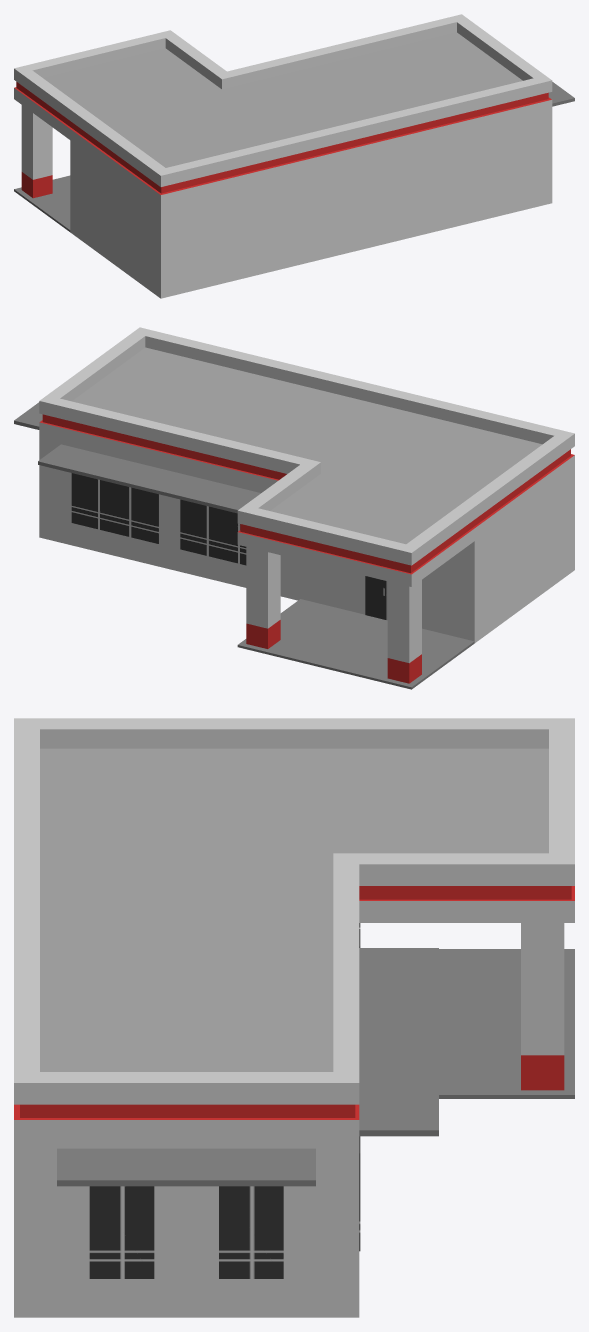
Rendered from spw-urban-bldg-small-01.glb.
3 views of the same model, one above another, from view 1: azimuth 30°, elevation 25°; view 2: azimuth 150°, elevation 25°; view 3: azimuth 270°, elevation 25° (orthographic). The views are drawn at different scales.
Visible parts, largest first — view 1: SPW_Urban_Bldg_Small_01; view 2: SPW_Urban_Bldg_Small_01; view 3: SPW_Urban_Bldg_Small_01.
Part boxes in pixels (bbox=[...]): SPW_Urban_Bldg_Small_01: bbox=[14, 14, 574, 298]; SPW_Urban_Bldg_Small_01: bbox=[14, 327, 574, 689]; SPW_Urban_Bldg_Small_01: bbox=[14, 718, 574, 1317].
Size of the model in its own units: 21.74 by 6 by 13.
1 material, 1 textured.
